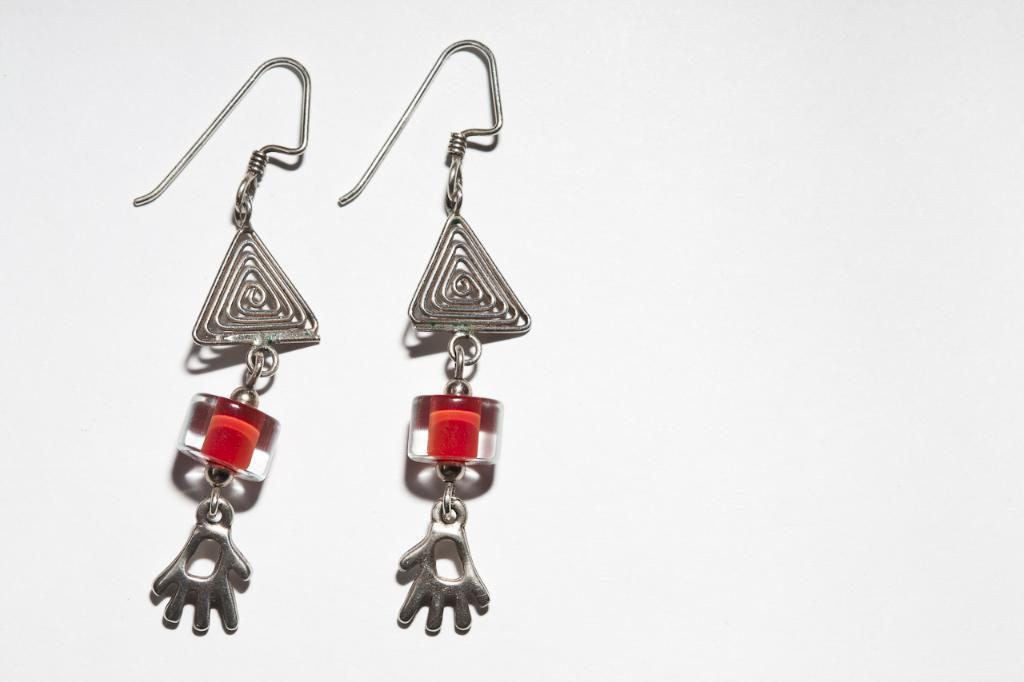earrings: (335, 27, 538, 637), (123, 49, 328, 640)
